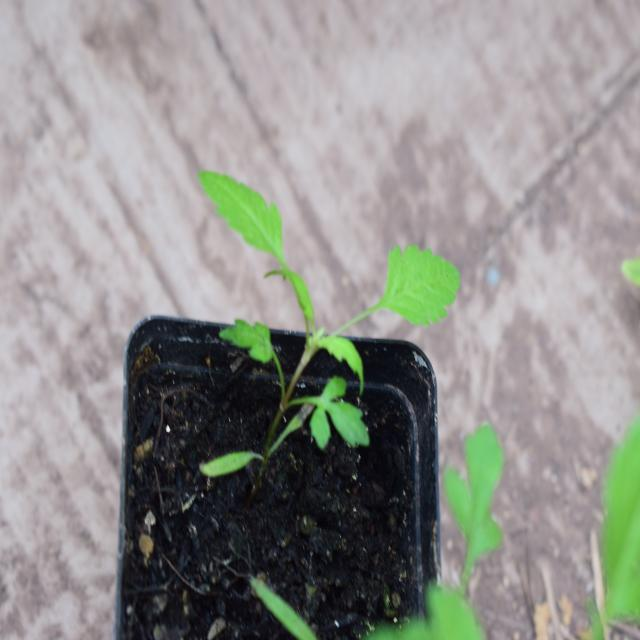Bidens pilosa: (200, 155, 456, 451)
